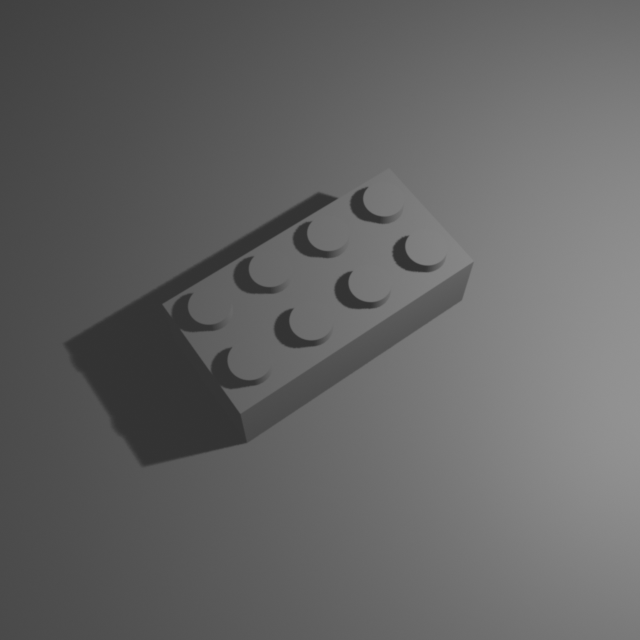lego_2x4: (160, 160, 476, 443)
